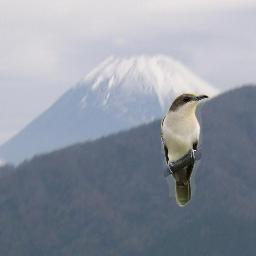Cuckoo: (161, 93, 209, 207)
